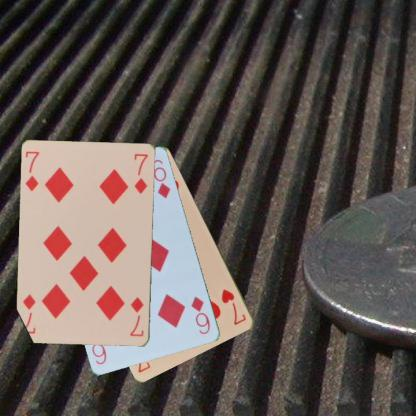6d: (188, 294, 212, 336)
7d: (23, 148, 41, 193), (127, 295, 145, 338)
7h: (219, 286, 248, 326)
